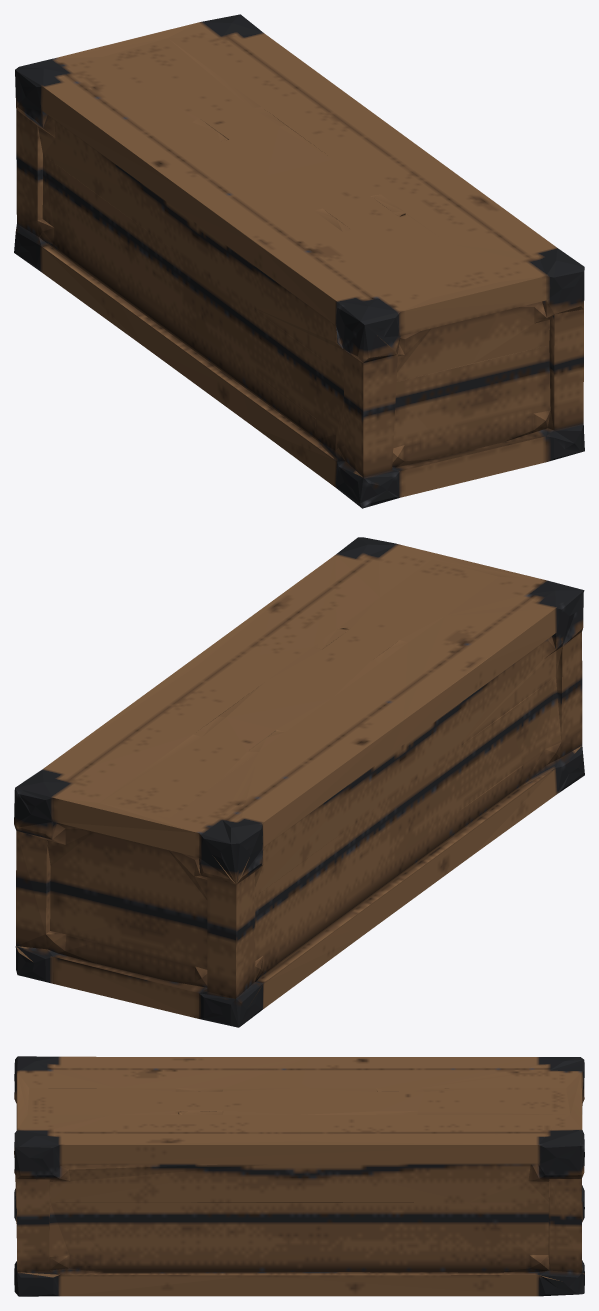
The model's file is SM_MeshyCoffin.fbx.
The picture shows the model from 3 angles, top to bottom: view 1: azimuth 30°, elevation 25°; view 2: azimuth 150°, elevation 25°; view 3: azimuth 270°, elevation 25°; orthographic projection. The views are drawn at different scales.
Parts seen in each view (by area): view 1: SM_MeshyCoffin; view 2: SM_MeshyCoffin; view 3: SM_MeshyCoffin.
Part boxes in pixels (<box>): SM_MeshyCoffin: <box>14,14,584,508</box>; SM_MeshyCoffin: <box>14,537,584,1027</box>; SM_MeshyCoffin: <box>14,1056,584,1296</box>.
Size of the model in its own units: 0.7459 by 0.6015 by 1.99.
Materials: 1 (1 with a texture image).
